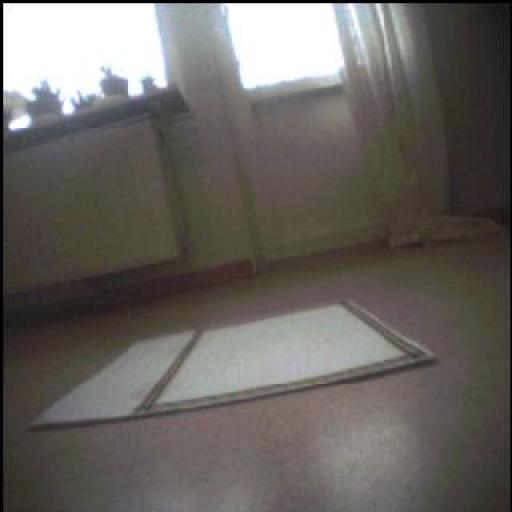Pad: (33, 302, 435, 428)
